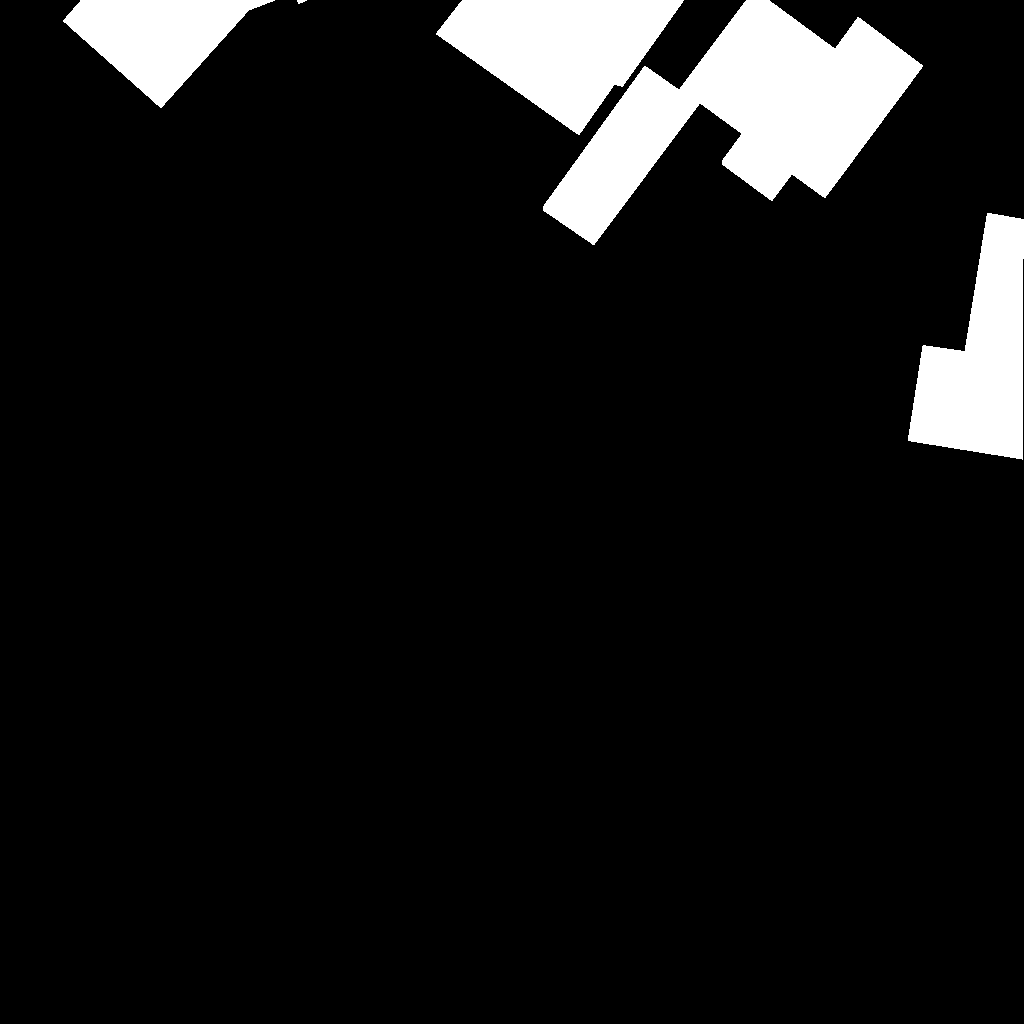building: (542, 0, 924, 246), (436, 0, 685, 136), (908, 213, 1024, 460), (63, 0, 309, 109)
